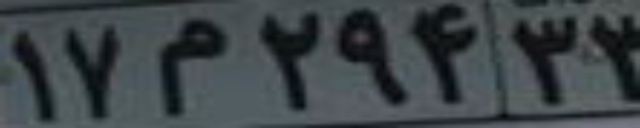1: (9, 28, 55, 121)
2: (257, 10, 320, 111)
3: (506, 14, 574, 104), (589, 14, 639, 103)
4: (412, 4, 483, 106)
7: (61, 23, 131, 120)
9: (335, 7, 407, 106)
mim: (154, 18, 226, 118)
